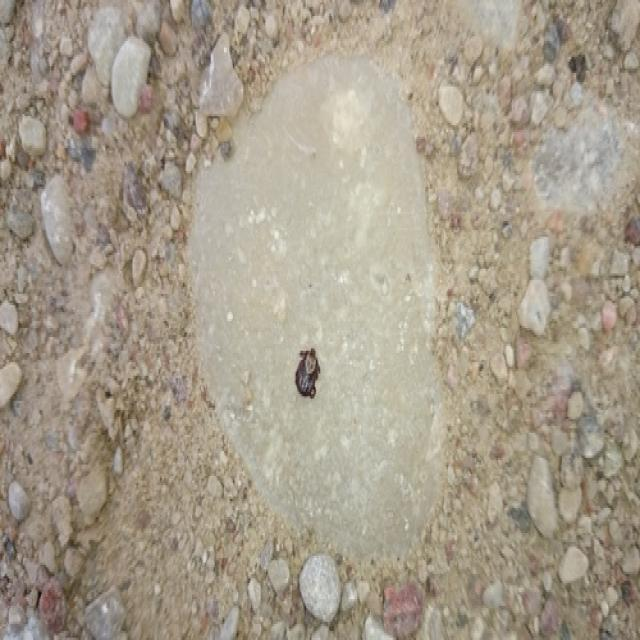Dermacentor Reticulatus-F: (292, 348, 321, 401)
